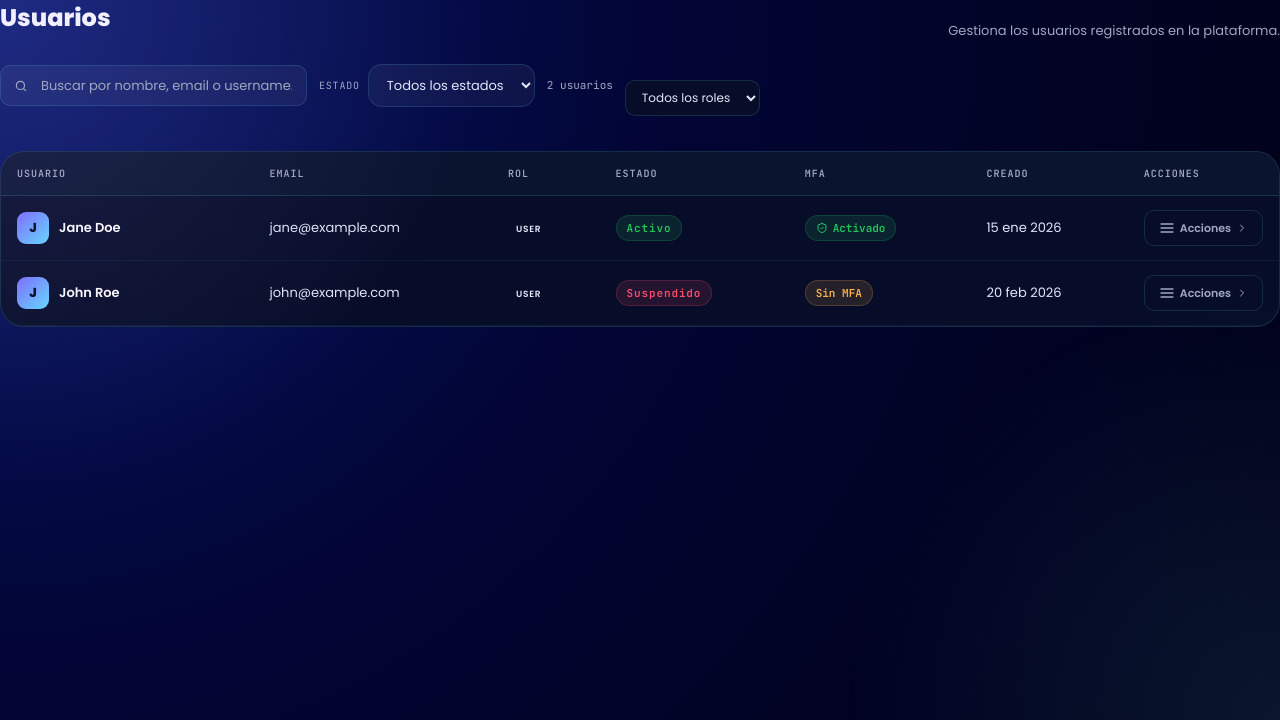
Test: AdminUserPage › reactivates a suspended user
Click the button "Acciones" in the row of "John Roe". click: (1203, 293)
box: [1144,275,1263,311]
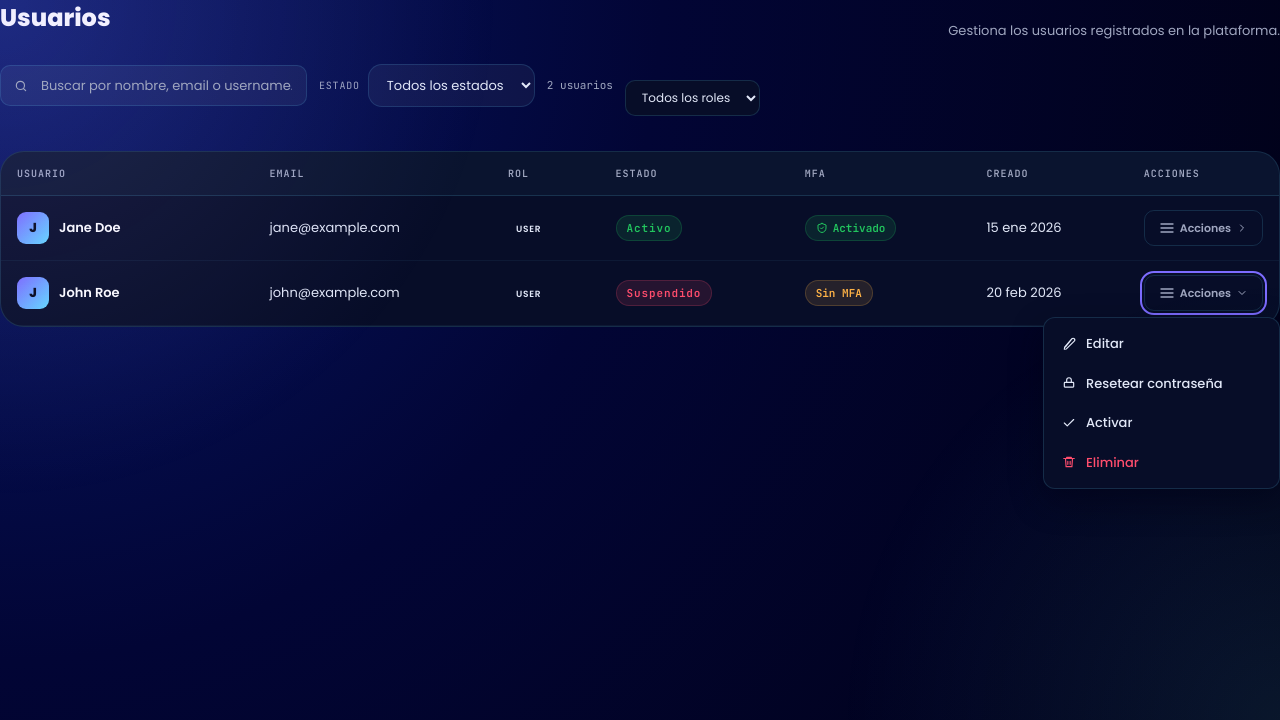
Expected: the menu is shown, [1043,317,1279,489]
Click the menu item "Activar". click: (1162, 423)
box: [1050,403,1273,442]
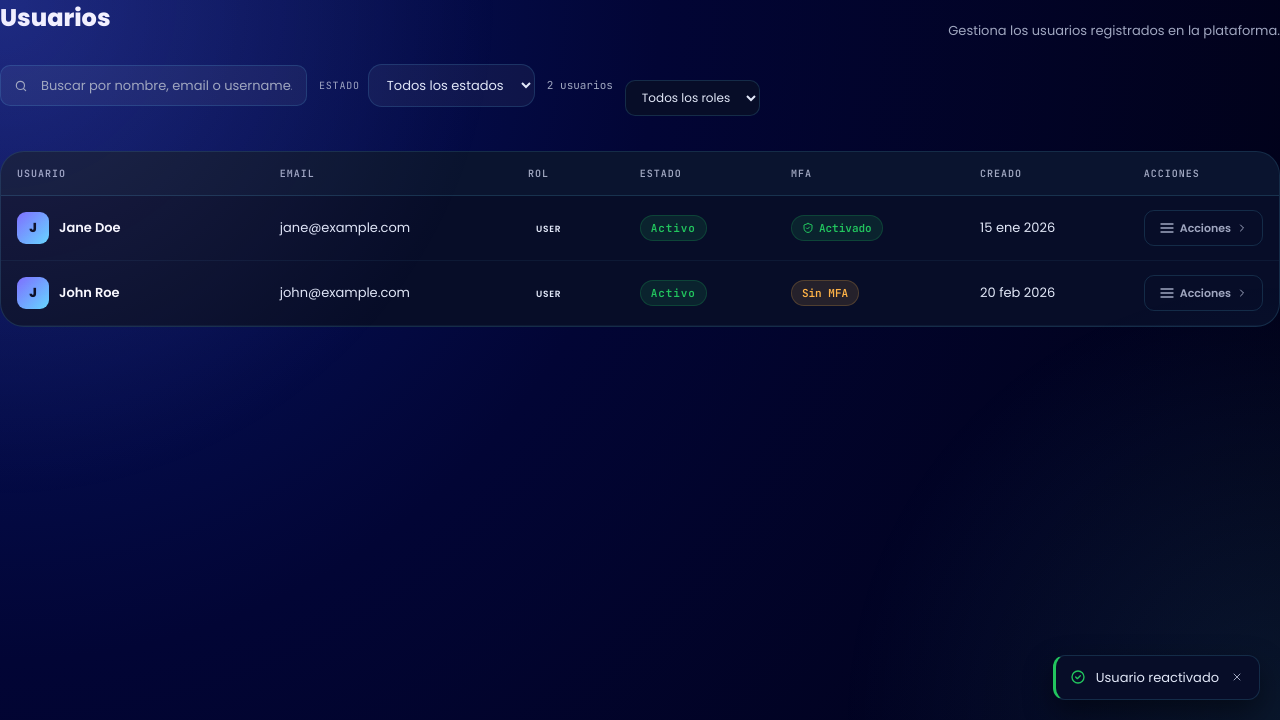
Expected: the text "Usuario reactivado" is shown, [1096,668,1219,687]
